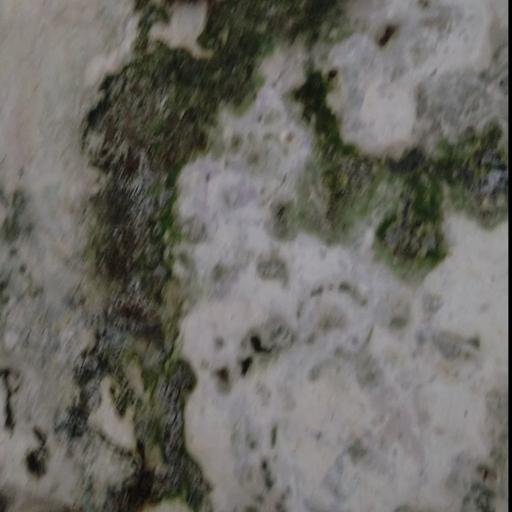algae: (52, 4, 281, 509)
